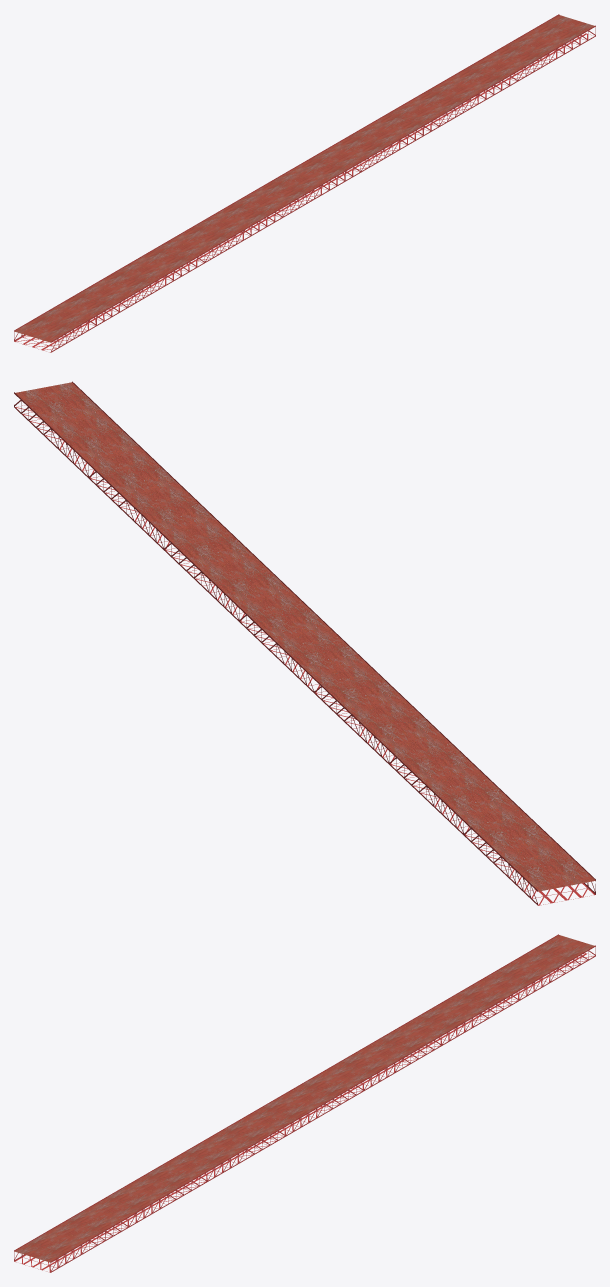
The model's file is des_railstruct1_.obj.
3 views of the same model, one above another, from view 1: azimuth 90°, elevation 25°; view 2: azimuth 150°, elevation 25°; view 3: azimuth 270°, elevation 25° (orthographic). The views are drawn at different scales.
Visible parts, largest first — view 1: des_railstruct1_; view 2: des_railstruct1_; view 3: des_railstruct1_.
Boxes of the visible parts, left/top/right/bottom form: des_railstruct1_: left=14, top=14, right=595, bottom=352; des_railstruct1_: left=14, top=381, right=595, bottom=905; des_railstruct1_: left=14, top=934, right=595, bottom=1272.
Bounding box in the file's own units: 188 × 2.96 × 141.
Materials: 2 (2 with a texture image).
